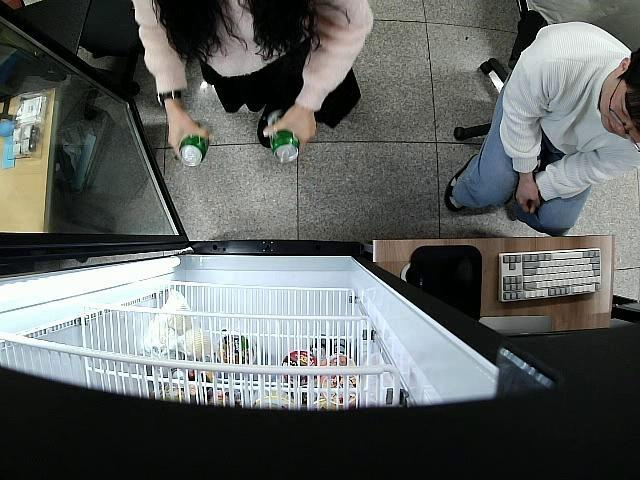12_chilsungCider: (178, 118, 213, 169), (267, 111, 300, 164)
